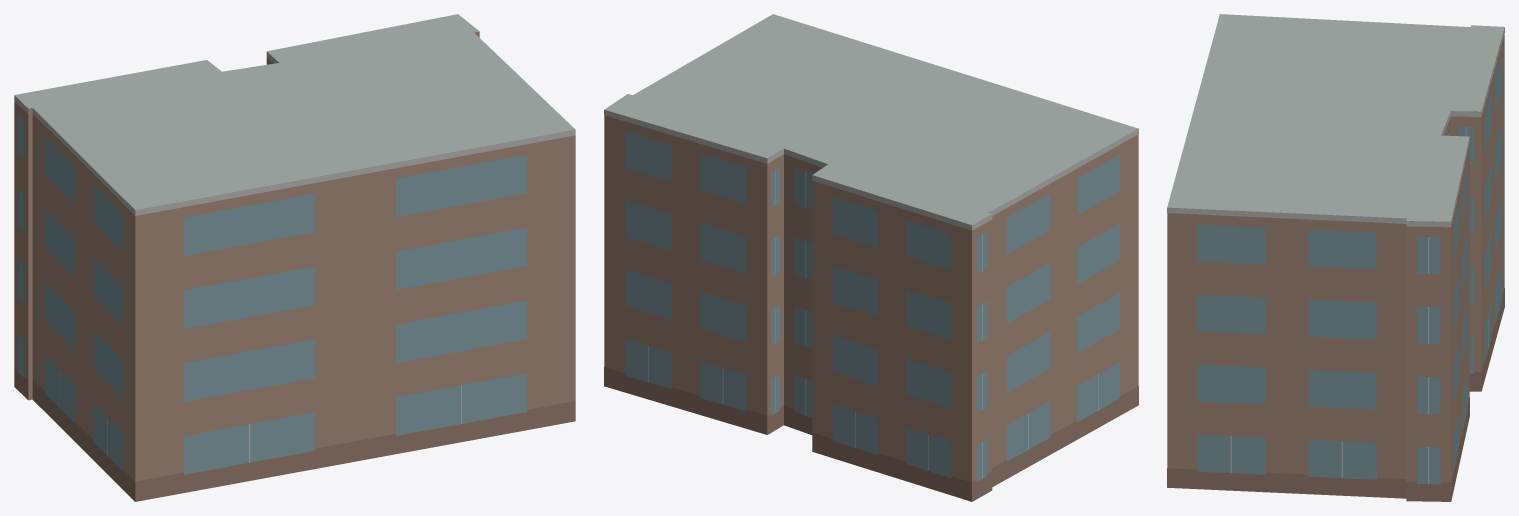
File: survey-upis-32871242.glb
The picture shows the model from 3 angles, left to right: view 1: azimuth 30°, elevation 25°; view 2: azimuth 150°, elevation 25°; view 3: azimuth 270°, elevation 25°; orthographic projection. The views are drawn at different scales.
Visible parts, largest first — view 1: survey-upis-32871242.tmp; view 2: survey-upis-32871242.tmp; view 3: survey-upis-32871242.tmp.
Boxes of the visible parts, x1,y1,x2,y2 form: survey-upis-32871242.tmp: (14, 14, 575, 501); survey-upis-32871242.tmp: (604, 14, 1138, 501); survey-upis-32871242.tmp: (1167, 14, 1504, 501).
Bounding box in the file's own units: 19.73 × 12.4 × 13.56.
